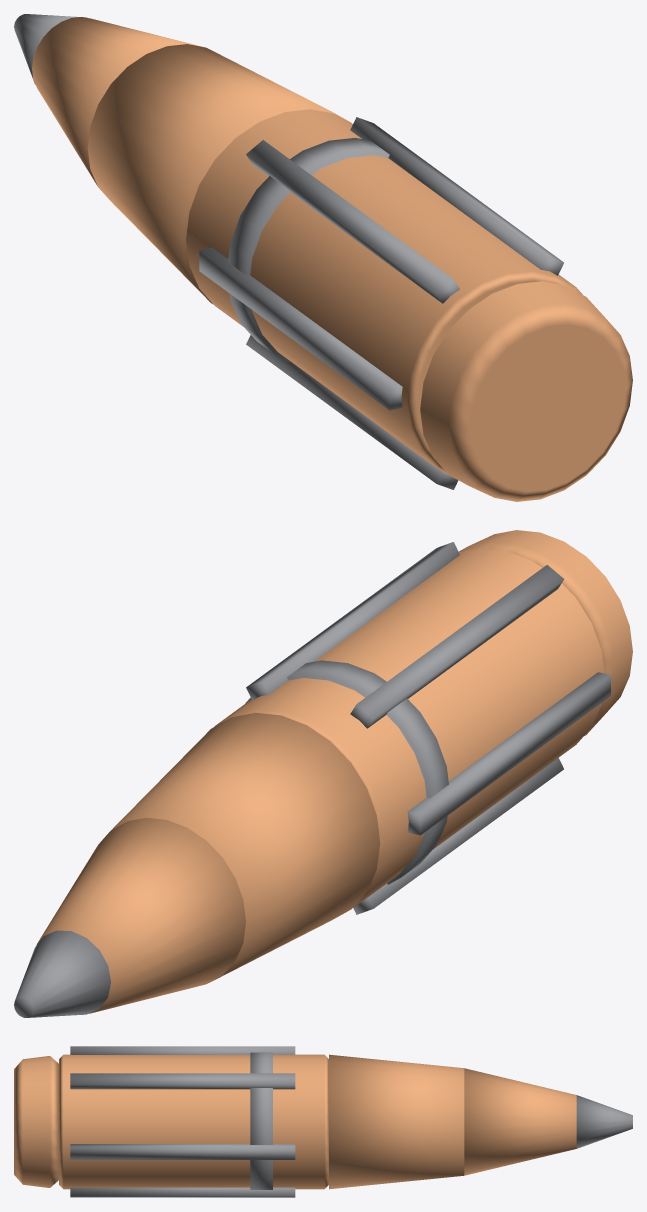
File: bullet.glb
3 renders of one model, top to bottom at view 1: azimuth 30°, elevation 25°; view 2: azimuth 150°, elevation 25°; view 3: azimuth 270°, elevation 25°, orthographic. The views are drawn at different scales.
Visible parts, largest first — view 1: u_body, u_base, u_ogive1, u_ogive2, u_groove3, u_groove2, u_cann, u_groove1, u_groove4, u_tip; view 2: u_body, u_ogive1, u_ogive2, u_base, u_groove3, u_groove2, u_tip, u_cann, u_groove1, u_groove4; view 3: u_body, u_ogive1, u_ogive2, u_base, u_groove1, u_groove0, u_cann, u_groove5, u_groove2, u_tip.
Part boxes in pixels (left/top/right/bottom): u_body: left=186, top=109, right=582, bottom=478; u_base: left=420, top=281, right=632, bottom=501; u_ogive1: left=87, top=44, right=351, bottom=304; u_ogive2: left=32, top=17, right=202, bottom=185; u_groove3: left=199, top=247, right=402, bottom=410; u_groove2: left=246, top=140, right=459, bottom=303; u_cann: left=228, top=138, right=389, bottom=362; u_groove1: left=350, top=117, right=563, bottom=275; u_groove4: left=246, top=335, right=458, bottom=489; u_tip: left=14, top=14, right=87, bottom=84; u_body: left=214, top=548, right=604, bottom=907; u_ogive1: left=112, top=712, right=380, bottom=982; u_ogive2: left=36, top=817, right=245, bottom=1014; u_base: left=459, top=530, right=632, bottom=735; u_groove3: left=407, top=672, right=610, bottom=835; u_groove2: left=350, top=565, right=563, bottom=728; u_tip: left=14, top=930, right=110, bottom=1017; u_cann: left=245, top=660, right=448, bottom=884; u_groove1: left=246, top=542, right=459, bottom=700; u_groove4: left=353, top=758, right=563, bottom=914; u_body: left=59, top=1054, right=328, bottom=1189; u_ogive1: left=329, top=1054, right=464, bottom=1189; u_ogive2: left=464, top=1068, right=576, bottom=1175; u_base: left=14, top=1056, right=58, bottom=1187; u_groove1: left=70, top=1073, right=295, bottom=1089; u_groove0: left=70, top=1144, right=295, bottom=1159; u_cann: left=250, top=1052, right=272, bottom=1189; u_groove5: left=70, top=1187, right=295, bottom=1197; u_groove2: left=70, top=1046, right=295, bottom=1054; u_tip: left=576, top=1095, right=632, bottom=1148.
Size of the model in its own units: 0.0134 by 0.0124 by 0.055.
